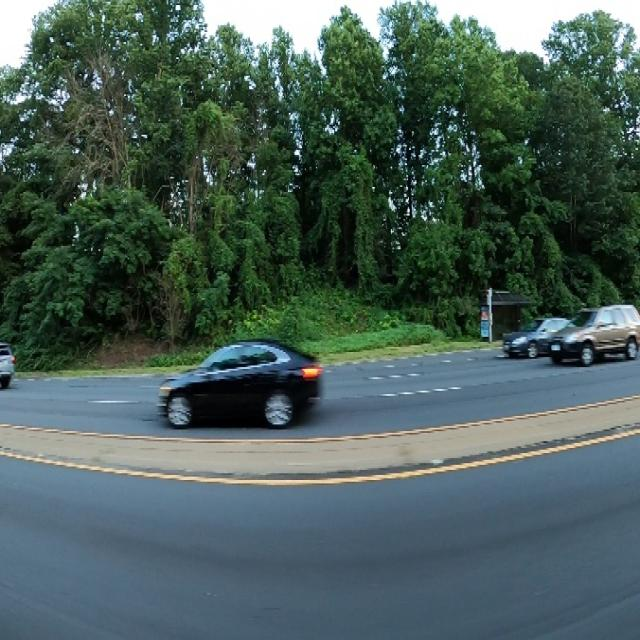cars: (153, 340, 331, 435), (550, 305, 640, 362), (502, 312, 574, 358), (0, 330, 16, 390)
